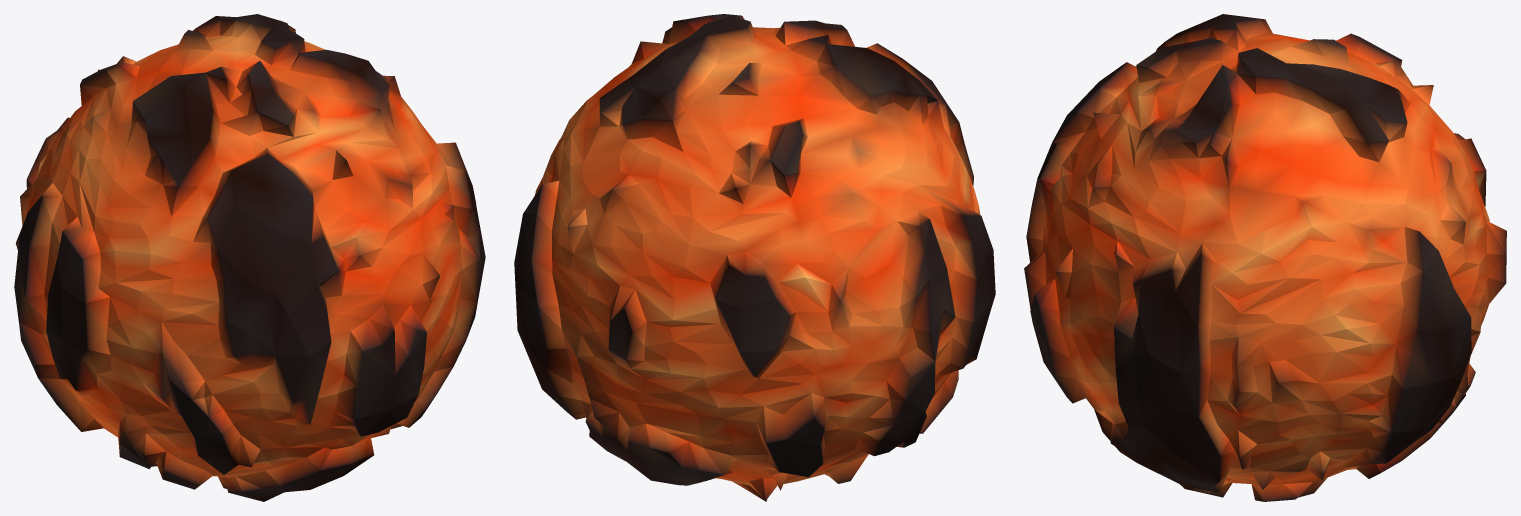
File: barren_12.fbx
3 views of the same model, side by side, from view 1: azimuth 30°, elevation 25°; view 2: azimuth 150°, elevation 25°; view 3: azimuth 270°, elevation 25° (orthographic). The views are drawn at different scales.
Visible parts, largest first — view 1: filecache1; view 2: filecache1; view 3: filecache1.
Part boxes in pixels (x1,y1,x2,y2): filecache1: [14, 14, 485, 501]; filecache1: [514, 14, 995, 501]; filecache1: [1024, 14, 1506, 501].
Size of the model in its own units: 2.13 by 2.15 by 2.16.
